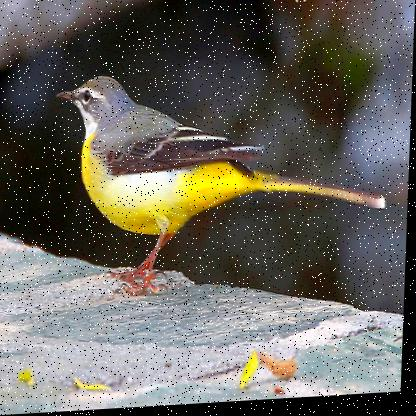Burung: (50, 63, 391, 294)
